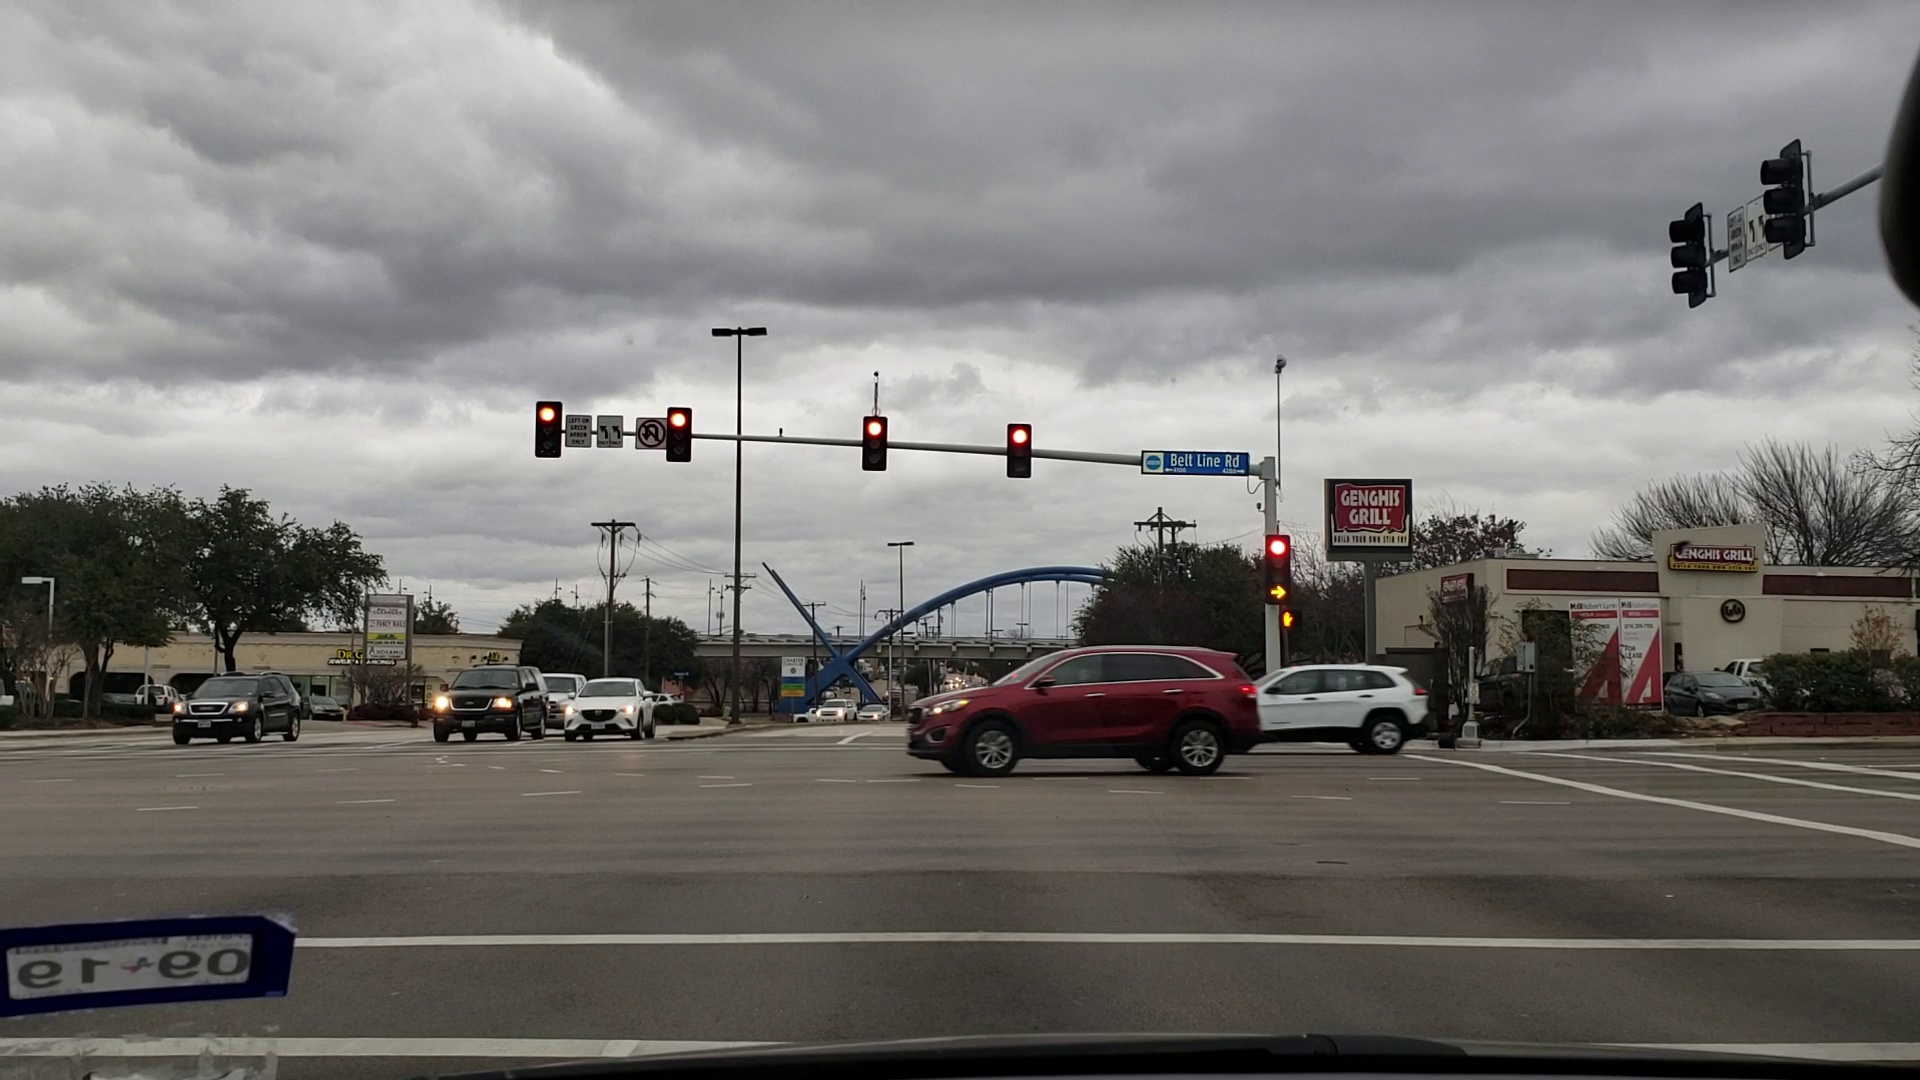car: (913, 636, 1263, 782), (1247, 661, 1432, 757), (165, 670, 311, 740), (435, 658, 551, 742), (1725, 642, 1809, 738), (1665, 665, 1759, 732), (559, 680, 654, 746), (543, 666, 588, 735), (133, 674, 181, 711), (305, 688, 344, 723), (818, 694, 855, 725), (862, 698, 889, 723)
traffic light: (1665, 216, 1712, 295), (1766, 146, 1803, 243), (1007, 423, 1033, 481), (1266, 535, 1288, 600), (535, 397, 559, 458), (865, 411, 887, 471), (669, 407, 692, 462)
